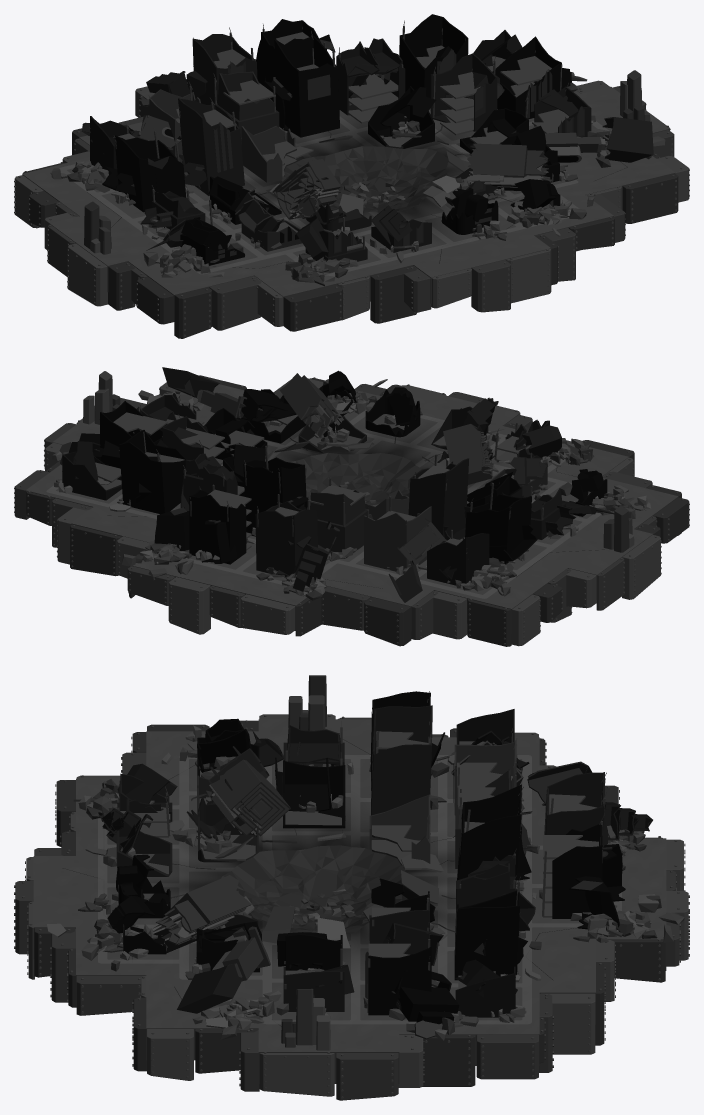
Rendered from city-island-exploded.glb.
3 renders of one model, top to bottom at view 1: azimuth 30°, elevation 25°; view 2: azimuth 150°, elevation 25°; view 3: azimuth 270°, elevation 25°, orthographic. The views are drawn at different scales.
Visible parts, largest first — view 1: Blast | Island continuous worn steel deck and simple core, Debris | fractured masonry and shattered cores, Impact crater | fractured sunken basin, Blast | City uniform rounded roads, 23 ruined base | Angled roof mass.004, 14 ruined base | Slender shaft, 13 ruined base | Angled roof mass.002, 25 ruined base | Plain monolith.001, Blast | Island projecting metal slab 16, Blast | Island projecting metal slab 04, Blast | Island projecting metal slab 02, Debris | torn floor slabs and bent metal panels (+65 smaller); view 2: Blast | Island continuous worn steel deck and simple core, Debris | fractured masonry and shattered cores, Blast | City uniform rounded roads, Impact crater | fractured sunken basin, 25 ruined base | Plain monolith.001, 32 ruined base | Broad main volume.009, 14 ruined base | Slender shaft, 23 ruined base | Angled roof mass.004, 33 ruined base | Broad main volume.010, 21 ruined base | Broad main volume.005, 13 ruined base | Angled roof mass.002, 20 ruined base | Wide lower block.002 (+67 smaller); view 3: Blast | Island continuous worn steel deck and simple core, Debris | fractured masonry and shattered cores, Blast | City uniform rounded roads, Impact crater | fractured sunken basin, 14 ruined base | Slender shaft, 25 ruined base | Plain monolith.001, 23 ruined base | Angled roof mass.004, Debris | torn floor slabs and bent metal panels, 33 ruined base | Broad main volume.010, Blast | Island projecting metal slab 20, 19 ruined base | Broad main volume.004, Blast | Island projecting metal slab 21 (+58 smaller).
Part boxes in pixels (x1=…): Blast | Island continuous worn steel deck and simple core: x1=22, y1=83, x2=675, y2=322; Debris | fractured masonry and shattered cores: x1=51, y1=72, x2=665, y2=282; Impact crater | fractured sunken basin: x1=281, y1=146, x2=448, y2=212; Blast | City uniform rounded roads: x1=59, y1=111, x2=611, y2=274; 23 ruined base | Angled roof mass.004: x1=274, y1=35, x2=339, y2=137; 14 ruined base | Slender shaft: x1=178, y1=98, x2=244, y2=195; 13 ruined base | Angled roof mass.002: x1=114, y1=135, x2=186, y2=212; 25 ruined base | Plain monolith.001: x1=399, y1=14, x2=468, y2=97; Blast | Island projecting metal slab 16: x1=622, y1=173, x2=678, y2=223; Blast | Island projecting metal slab 04: x1=283, y1=284, x2=342, y2=331; Blast | Island projecting metal slab 02: x1=209, y1=276, x2=261, y2=330; Debris | torn floor slabs and bent metal panels: x1=50, y1=75, x2=608, y2=286; Blast | Island continuous worn steel deck and simple core: x1=25, y1=378, x2=678, y2=634; Debris | fractured masonry and shattered cores: x1=52, y1=379, x2=650, y2=600; Blast | City uniform rounded roads: x1=46, y1=410, x2=624, y2=598; Impact crater | fractured sunken basin: x1=288, y1=452, x2=422, y2=505; 25 ruined base | Plain monolith.001: x1=119, y1=430, x2=186, y2=514; 32 ruined base | Broad main volume.009: x1=255, y1=501, x2=317, y2=577; 14 ruined base | Slender shaft: x1=408, y1=458, x2=469, y2=537; 23 ruined base | Angled roof mass.004: x1=243, y1=457, x2=306, y2=536; 33 ruined base | Broad main volume.010: x1=189, y1=489, x2=246, y2=564; 21 ruined base | Broad main volume.005: x1=364, y1=506, x2=431, y2=573; 13 ruined base | Angled roof mass.002: x1=465, y1=494, x2=531, y2=564; 20 ruined base | Wide lower block.002: x1=427, y1=533, x2=489, y2=585; Blast | Island continuous worn steel deck and simple core: x1=33, y1=719, x2=666, y2=1083; Debris | fractured masonry and shattered cores: x1=78, y1=723, x2=684, y2=1040; Blast | City uniform rounded roads: x1=98, y1=755, x2=621, y2=1024; Impact crater | fractured sunken basin: x1=221, y1=845, x2=405, y2=934; 14 ruined base | Slender shaft: x1=371, y1=705, x2=432, y2=815; 25 ruined base | Plain monolith.001: x1=454, y1=890, x2=520, y2=980; 23 ruined base | Angled roof mass.004: x1=457, y1=784, x2=521, y2=887; Debris | torn floor slabs and bent metal panels: x1=47, y1=734, x2=651, y2=1038; 33 ruined base | Broad main volume.010: x1=552, y1=823, x2=602, y2=918; Blast | Island projecting metal slab 20: x1=259, y1=1053, x2=334, y2=1096; 19 ruined base | Broad main volume.004: x1=368, y1=947, x2=431, y2=1015; Blast | Island projecting metal slab 21: x1=336, y1=1053, x2=398, y2=1100.
Bounding box in the file's own units: 58.22 × 12.19 × 48.09.
Materials: 31 (2 with a texture image).
